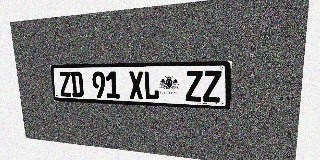1: (105, 71, 120, 99)
9: (92, 71, 106, 98)
D: (70, 72, 84, 97)
L: (143, 71, 159, 100)
X: (128, 71, 144, 100)
Z: (203, 70, 222, 102), (185, 71, 203, 102), (58, 72, 72, 97)
